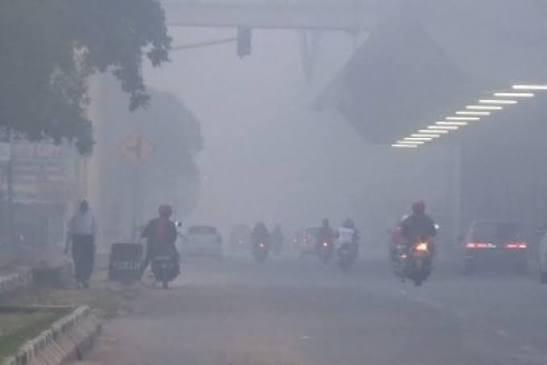Deteksi-Objek-Citra-Berasap: (0, 0, 546, 364)
Gedung: (3, 151, 95, 252)
Kendaraan: (460, 219, 530, 276), (390, 233, 437, 288), (148, 237, 183, 291), (178, 224, 224, 264), (332, 237, 358, 272), (250, 237, 273, 265)
Manusia: (389, 201, 440, 269), (141, 202, 182, 282), (64, 197, 97, 289), (315, 217, 339, 254), (337, 218, 359, 254), (251, 219, 272, 250), (281, 224, 295, 250)
Vegetasi: (0, 0, 171, 159), (110, 85, 204, 219)
